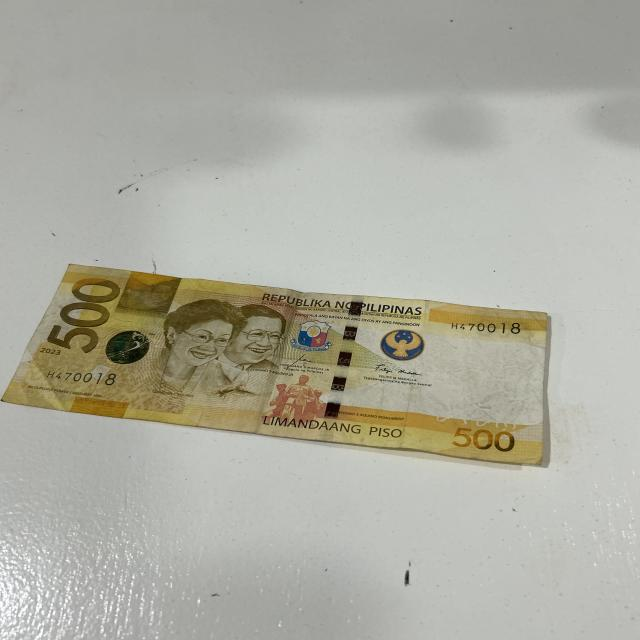concealed_value: (124, 272, 173, 310)
optically_variable_device: (105, 331, 150, 365)
see_through_mark: (432, 407, 529, 434)
